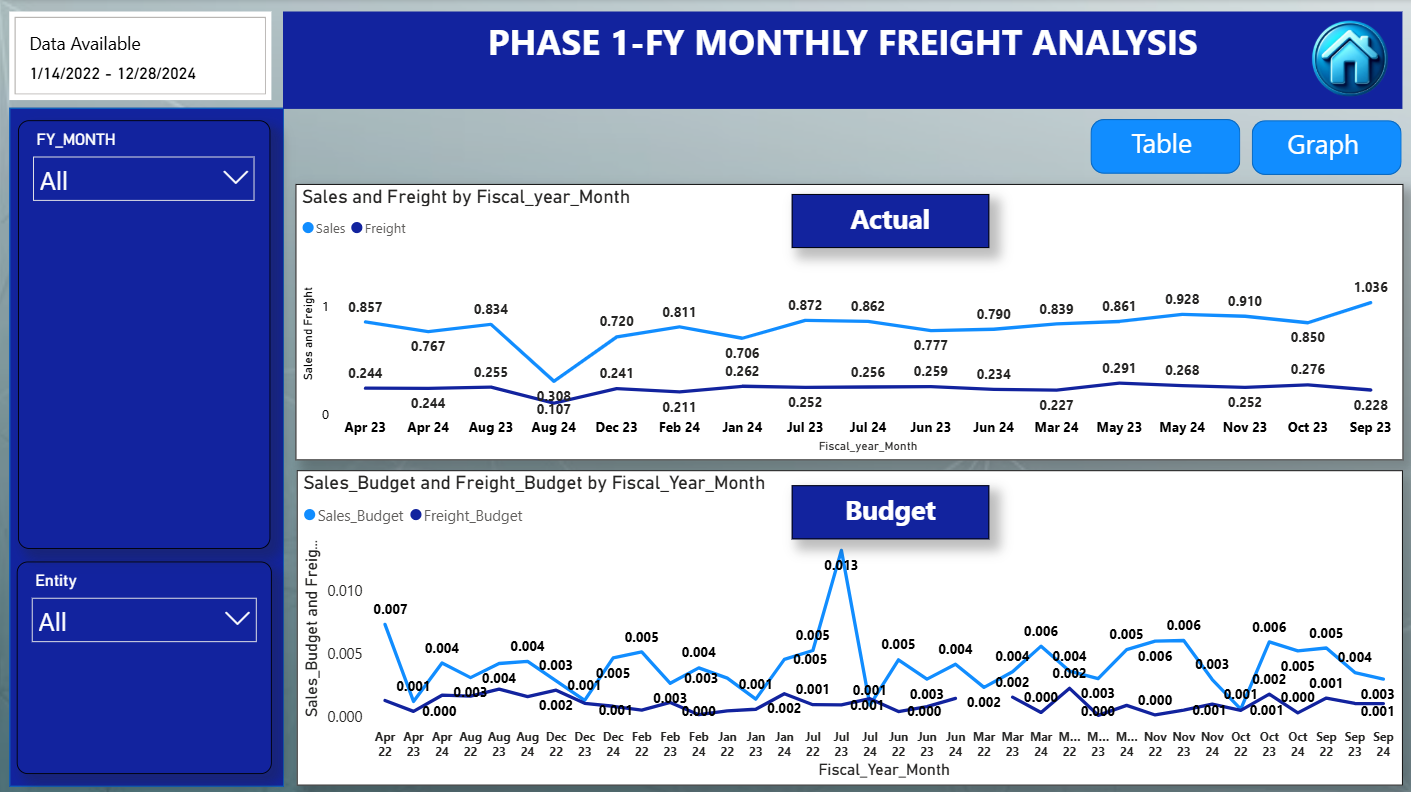

This screenshot's page, from the dashboard's own definition file:
{"tool":"powerbi","page":{"name":"Phase 1","canvas":[1280,720],"ordinal":2},"visuals":[{"type":"lineChart","fields":{"Category":["DimDate.FY MONTH"],"Y":["Measure.Actual Sales","Measure.Freight"]},"box":[268.7,167.1,1000.4,249.5],"z":0},{"type":"lineChart","fields":{"Category":["DimDate.FY MONTH"],"Y":["Measure.Budget Sales","Measure.FreightBudget"]},"box":[269.9,425.7,999.3,284.5],"z":1000},{"type":"shape","box":[9.6,98.8,248.4,613.4],"z":2000},{"type":"shape","box":[986.9,108.3,135.5,49.5],"z":2500,"group":"g3"},{"type":"shape","box":[1132.5,109.4,135.5,49.5],"z":2500,"group":"g4"},{"type":"slicer","fields":{"Values":["Entity.Entity"]},"box":[16.9,508.1,230.3,192],"z":3000},{"type":"slicer","fields":{"Values":["DimDate.FY MONTH"]},"box":[17.8,109.8,227.8,387],"z":4000},{"type":"textbox","box":[717,176.1,178.4,48.6],"z":5000},{"type":"textbox","box":[717,439.2,178.4,48.6],"z":6000},{"type":"textbox","box":[258,11,1011.3,87.8],"z":7000},{"type":"cardVisual","fields":{"Data":["DimDate.Data Available"]},"box":[10.2,11.3,237.1,80.2],"z":8000},{"type":"textbox","box":[1010.3,108.3,81.3,47.4],"z":8001,"group":"g3"},{"type":"textbox","box":[1155.9,109.4,81.3,47.4],"z":8001,"group":"g4"},{"type":"image","box":[1173.2,7.9,96,96],"z":9000},{"type":"group","id":"g1","title":"Group 3","box":[986.9,108.3,135.5,49.5],"z":10000},{"type":"group","id":"g2","title":"Group 6","box":[986.9,108.3,135.5,49.5],"z":10001,"group":"g1"},{"type":"group","id":"g3","title":"Group 2","box":[986.9,108.3,135.5,49.5],"z":10001,"group":"g5"},{"type":"group","id":"g4","title":"Group 2","box":[1132.5,109.4,135.5,49.5],"z":10001,"group":"g6"},{"type":"group","id":"g5","title":"Group 1","box":[986.9,108.3,135.5,49.5],"z":10002,"group":"g2"},{"type":"group","id":"g6","title":"Group 6","box":[1132.5,109.4,135.5,49.7],"z":11000}]}

Visuals, with their boxes in screenshot pixels (x1, y1, x2, y2), scaled from the page's 1280x720 canvas onto the 1411x792 screenshot:
lineChart - DimDate.FY MONTH x Measure.Actual Sales: <bbox>296, 184, 1399, 458</bbox>
lineChart - DimDate.FY MONTH x Measure.Budget Sales: <bbox>298, 468, 1399, 781</bbox>
shape: <bbox>11, 109, 284, 783</bbox>
shape: <bbox>1088, 119, 1237, 174</bbox>
shape: <bbox>1248, 120, 1398, 175</bbox>
slicer - Entity.Entity: <bbox>19, 559, 272, 770</bbox>
slicer - DimDate.FY MONTH: <bbox>20, 121, 271, 546</bbox>
textbox: <bbox>790, 194, 987, 247</bbox>
textbox: <bbox>790, 483, 987, 537</bbox>
textbox: <bbox>284, 12, 1399, 109</bbox>
cardVisual - DimDate.Data Available: <bbox>11, 12, 273, 101</bbox>
textbox: <bbox>1114, 119, 1203, 171</bbox>
textbox: <bbox>1274, 120, 1364, 172</bbox>
image: <bbox>1293, 9, 1399, 114</bbox>
"Group 3" group: <bbox>1088, 119, 1237, 174</bbox>
"Group 6" group: <bbox>1088, 119, 1237, 174</bbox>
"Group 2" group: <bbox>1088, 119, 1237, 174</bbox>
"Group 2" group: <bbox>1248, 120, 1398, 175</bbox>
"Group 1" group: <bbox>1088, 119, 1237, 174</bbox>
"Group 6" group: <bbox>1248, 120, 1398, 175</bbox>
